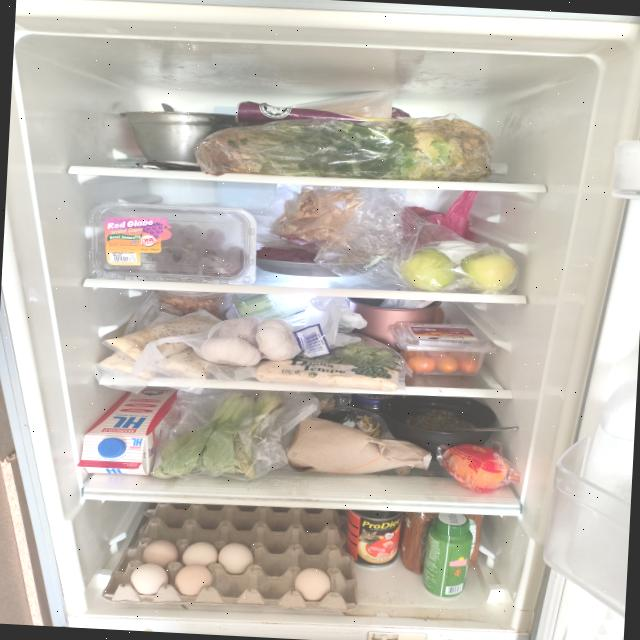apple: (459, 248, 522, 296), (399, 246, 456, 293)
egg: (102, 498, 364, 617)
garlic: (200, 314, 304, 370)
grape: (87, 198, 260, 287)
leafy_greens: (194, 106, 496, 192), (298, 336, 404, 372)
orange: (446, 447, 509, 491)
pakchoy: (152, 388, 284, 486)
tempeh: (99, 304, 224, 385), (253, 359, 399, 393)
